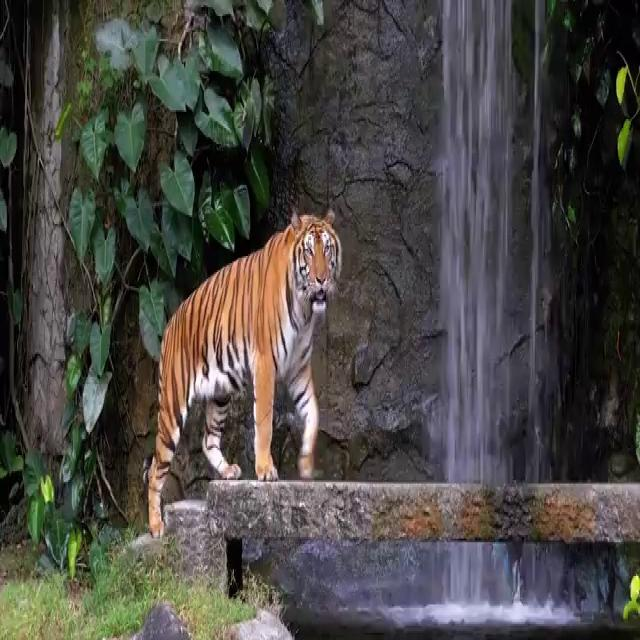tiger: (142, 200, 343, 540)
